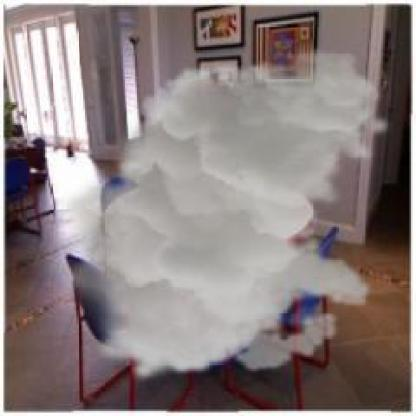Smoke: (52, 47, 393, 383)
